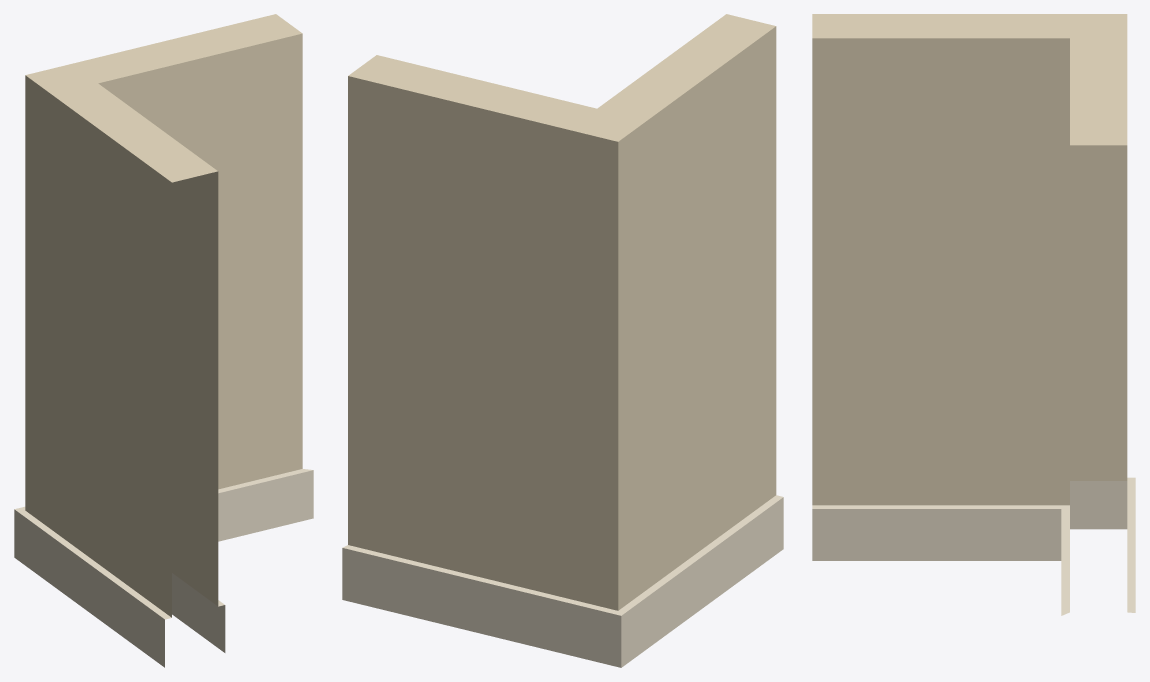
File: Mesh_Wall_L.fbx
3 views of the same model, side by side, from view 1: azimuth 30°, elevation 25°; view 2: azimuth 150°, elevation 25°; view 3: azimuth 270°, elevation 25° (orthographic). The views are drawn at different scales.
Parts seen in each view (by area): view 1: Wall_L_Cut; view 2: Wall_L_Cut; view 3: Wall_L_Cut.
Boxes of the visible parts, x1,y1,x2,y2 form: Wall_L_Cut: [14, 14, 313, 667]; Wall_L_Cut: [342, 14, 783, 667]; Wall_L_Cut: [812, 14, 1135, 615].
Bounding box in the file's own units: 115 × 200 × 113.
